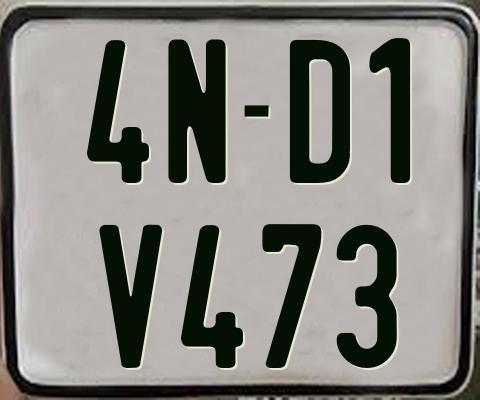1: (368, 38, 414, 187)
3: (336, 222, 398, 366)
4: (180, 225, 245, 374), (86, 38, 148, 183)
7: (260, 221, 324, 368)
D: (290, 37, 351, 181)
N: (166, 39, 227, 183)
V: (98, 222, 166, 370)
